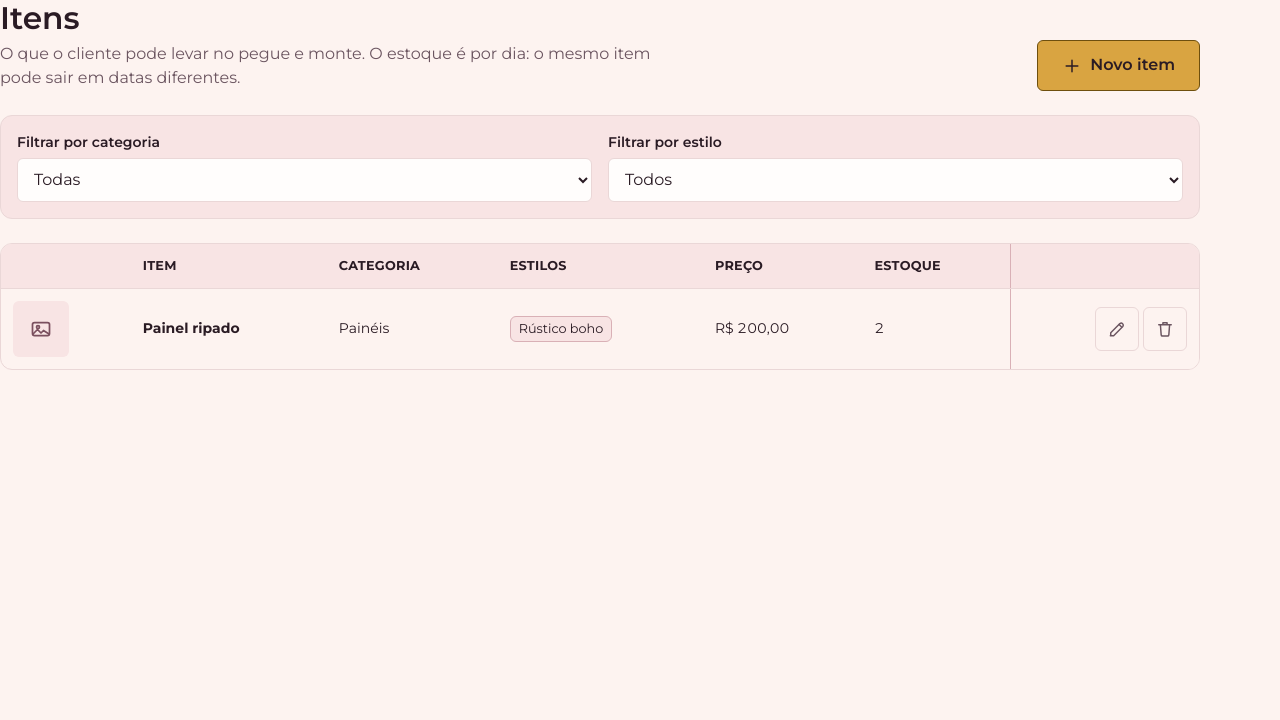
Test: ItemsPage › explica que o estoque é por dia
The image size is (1280, 720).
Click the button "Novo item".
click(1119, 66)  # box x1=1037 y1=40 x2=1200 y2=91
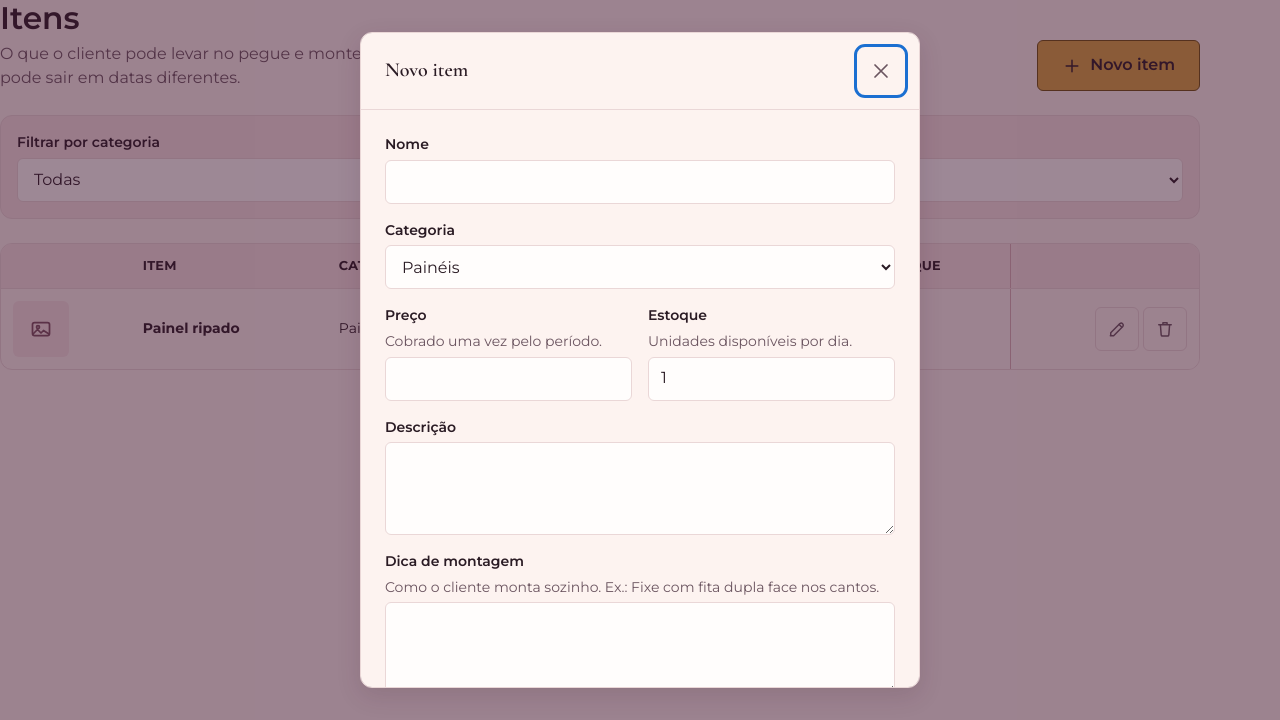
Now the text "Unidades disponíveis por dia." is shown, box x1=648 y1=332 x2=852 y2=350
Now the text "Cobrado uma vez pelo período." is shown, box x1=385 y1=331 x2=632 y2=353
